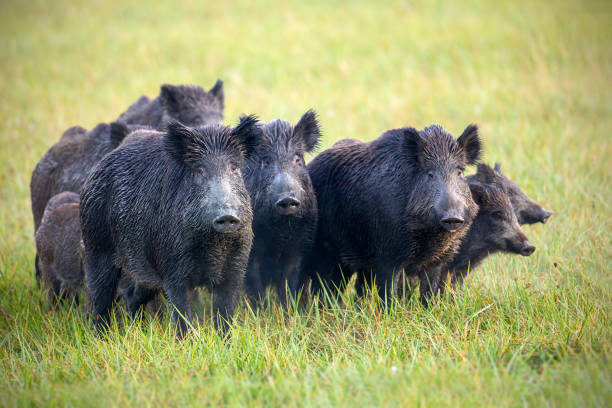pig: (129, 107, 250, 303), (253, 112, 333, 294), (399, 125, 482, 261), (471, 187, 544, 254)
